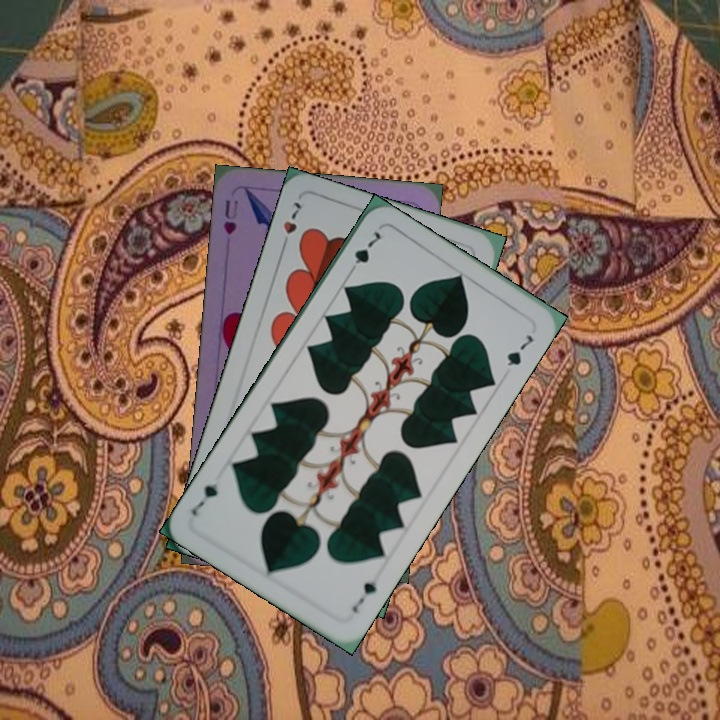G7: (344, 227, 386, 278), (348, 577, 380, 616)
H7: (277, 197, 307, 253)
HU: (220, 195, 241, 237)
